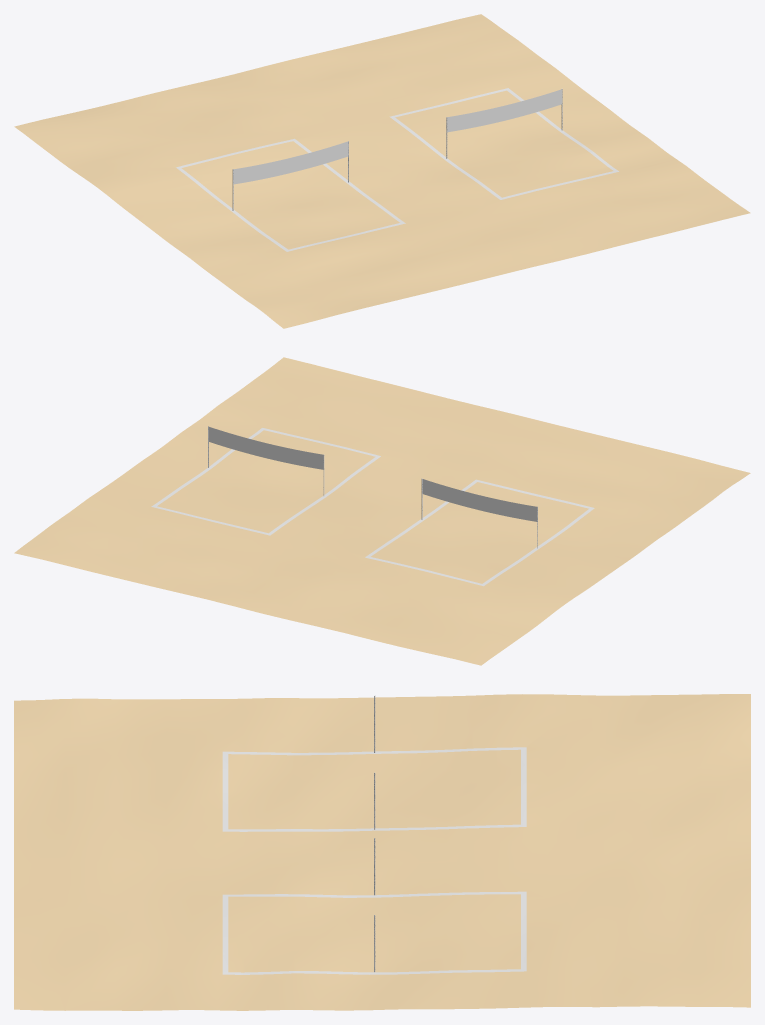
Rendered from 25_vollyball.dae.
The picture shows the model from 3 angles, top to bottom: view 1: azimuth 30°, elevation 25°; view 2: azimuth 150°, elevation 25°; view 3: azimuth 270°, elevation 25°; orthographic projection. The views are drawn at different scales.
Parts seen in each view (by area): view 1: group_0 (×5), SketchUp (×2); view 2: group_0 (×5), SketchUp (×2); view 3: group_0 (×5).
Part boxes in pixels (x1,y1,x2,y2): group_0 (×5): (14, 14, 750, 328); SketchUp (×2): (233, 89, 561, 184); group_0 (×5): (14, 357, 750, 665); SketchUp (×2): (209, 427, 537, 521); group_0 (×5): (14, 694, 750, 1010).
Size of the model in its own units: 65 by 65 by 5.76.
